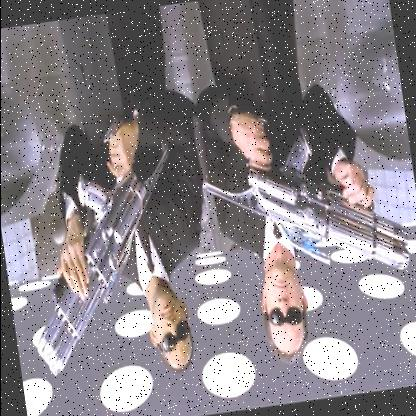rifle: (9, 119, 202, 385), (206, 89, 416, 301)
